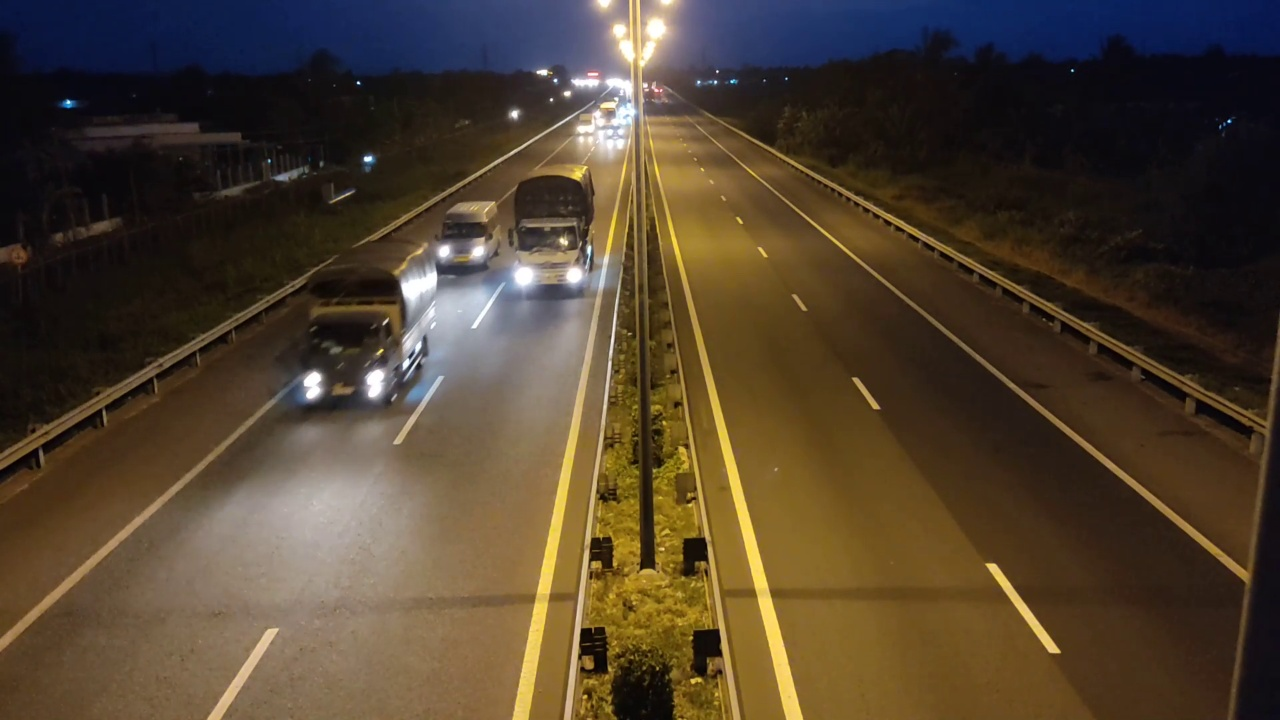car: (434, 192, 504, 275)
truck: (284, 237, 439, 413), (513, 163, 596, 297)
